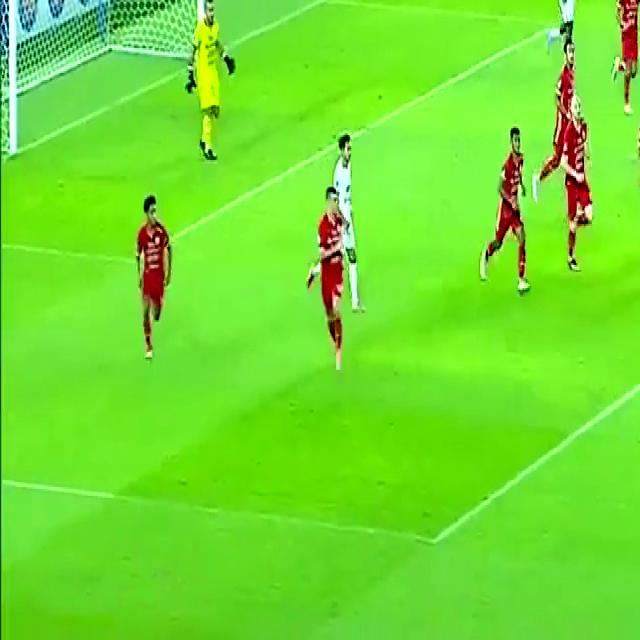goalkeeper: (177, 0, 237, 178)
soccer-player: (124, 188, 187, 370), (301, 195, 362, 378), (474, 122, 535, 299), (558, 93, 598, 269), (601, 0, 640, 94), (548, 0, 585, 44)
